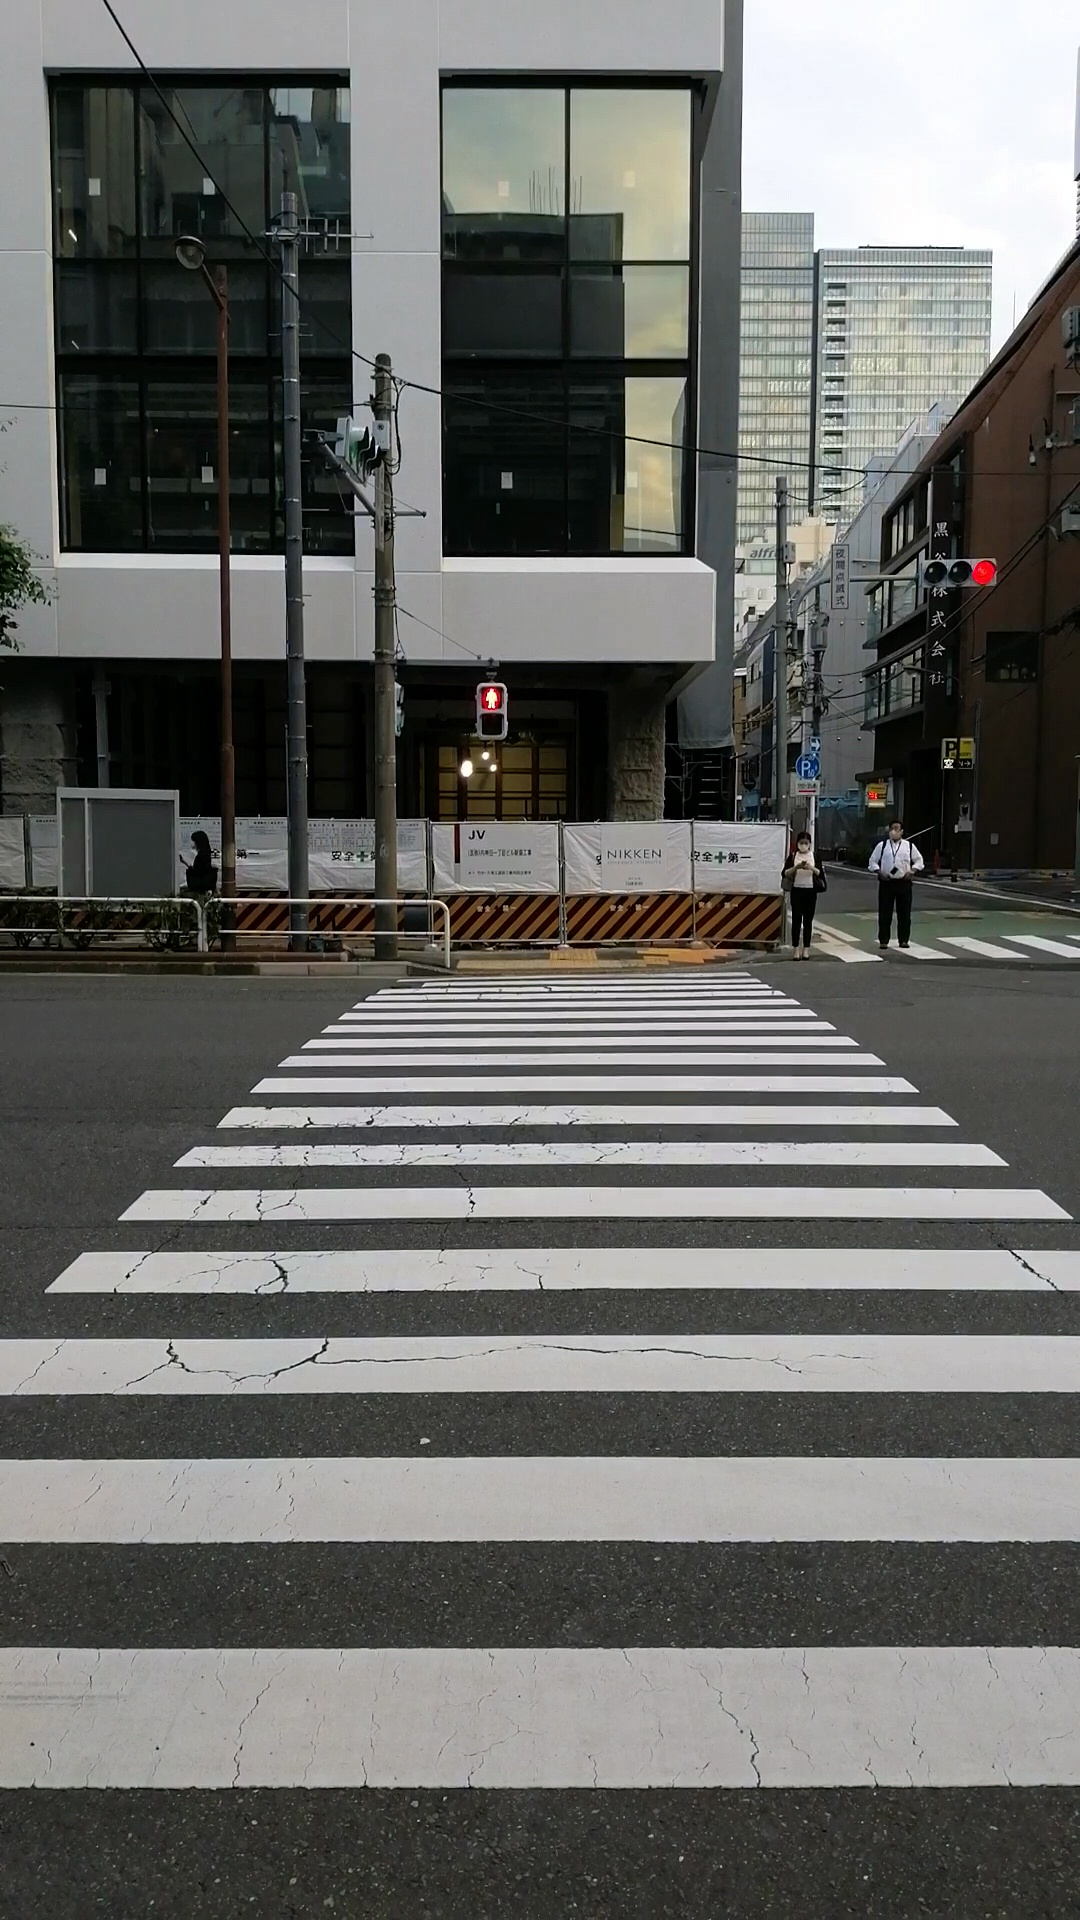red: (475, 678, 509, 738)
